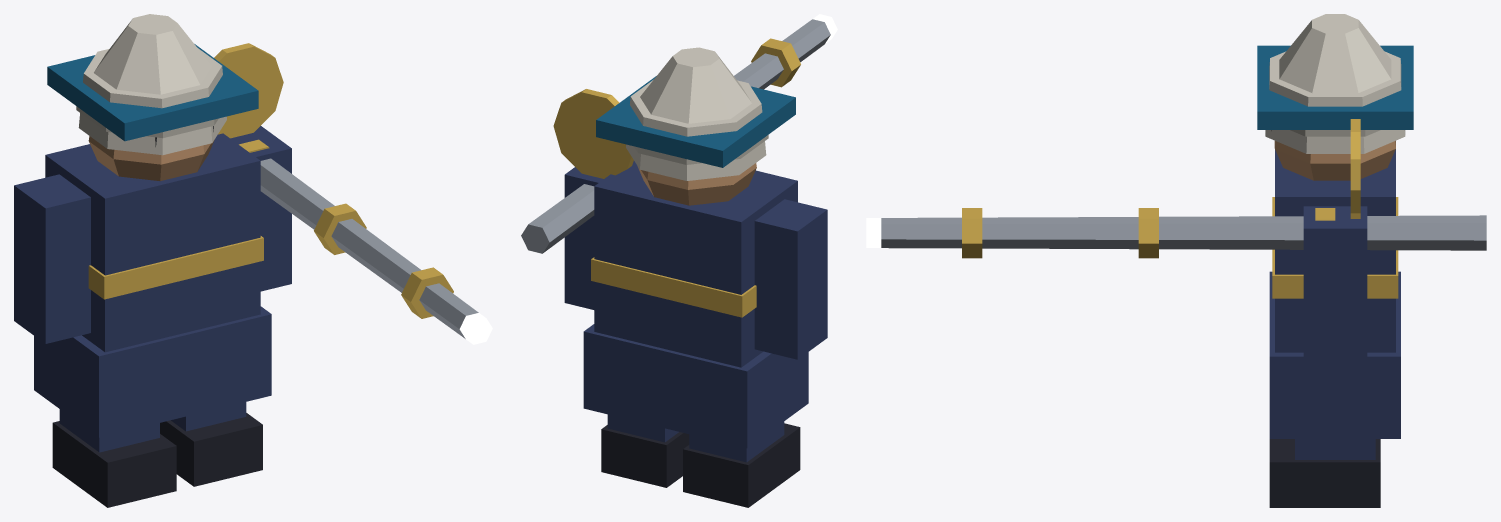
Rendered from unit_sniper.glb.
The picture shows the model from 3 angles, left to right: view 1: azimuth 30°, elevation 25°; view 2: azimuth 150°, elevation 25°; view 3: azimuth 270°, elevation 25°; orthographic projection. The views are drawn at different scales.
Visible parts, largest first — view 1: body, arm_r, arm_l, leg_l, leg_r, glow; view 2: body, arm_r, arm_l, leg_l, leg_r; view 3: body, arm_r, leg_r.
Boxes of the visible parts, x1,y1,x2,y2 form: body: (34,14,271,437); arm_r: (214,43,478,338); arm_l: (14,174,90,343); leg_l: (52,409,176,507); leg_r: (160,402,262,486); glow: (459,313,492,344); body: (583,47,808,448); arm_r: (521,19,830,309); arm_l: (754,199,827,359); leg_l: (683,421,800,507); leg_r: (601,414,689,487); body: (1257,14,1413,438); arm_r: (881,119,1486,365); leg_r: (1269,439,1380,507).
Size of the model in its own units: 0.605 by 0.975 by 1.23.
